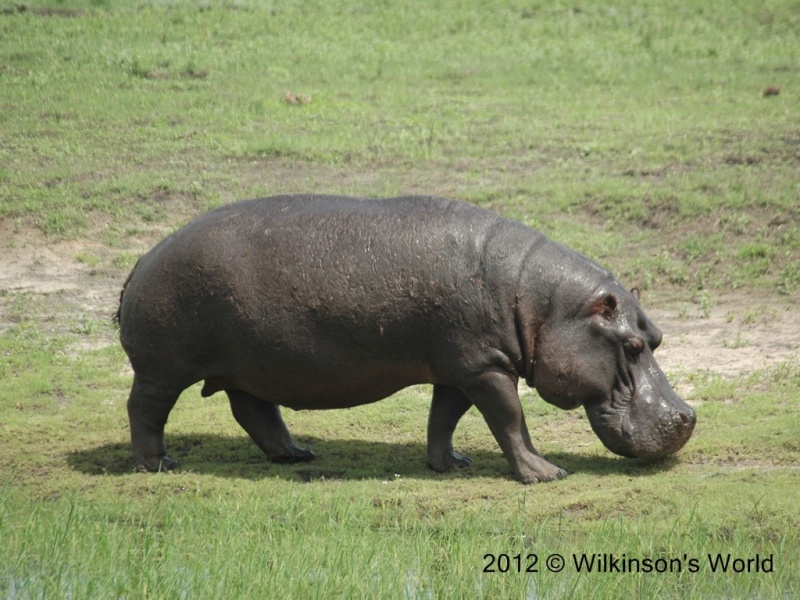hipopotamo: (110, 189, 698, 484)
